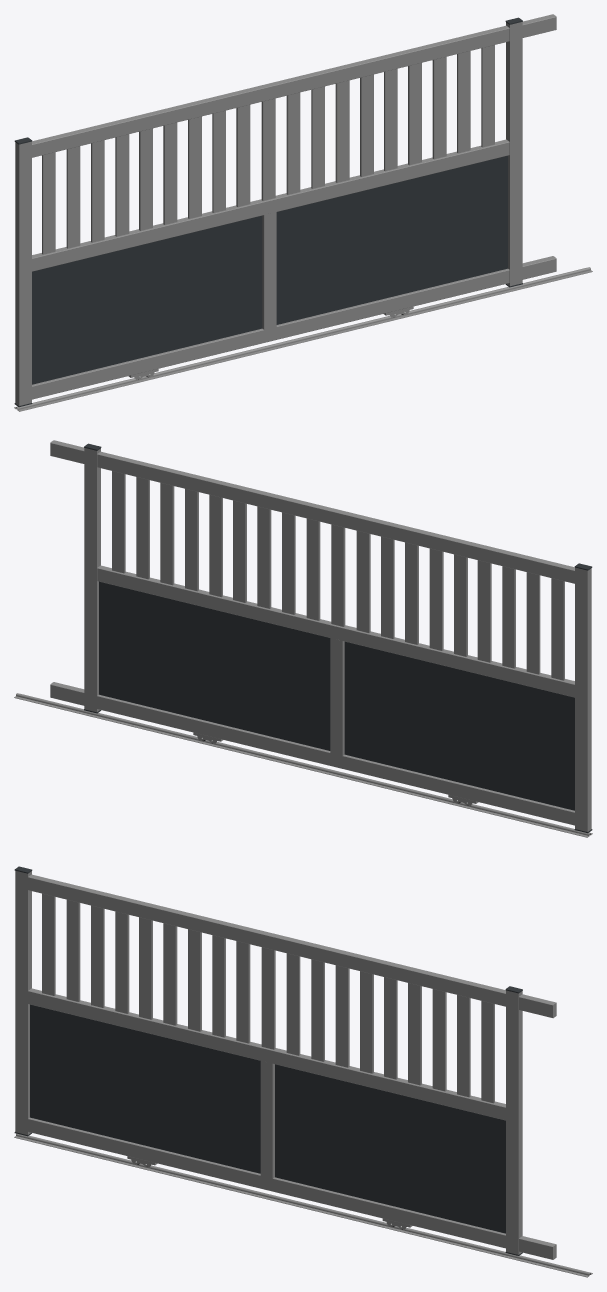
3 views of the same model, one above another, from view 1: azimuth 30°, elevation 25°; view 2: azimuth 150°, elevation 25°; view 3: azimuth 330°, elevation 25° (orthographic).
Visible parts, largest first — view 1: Chapa Alucobond028, Shape107412686, Shape107412685, travessa_central_ladoA, Pilar, Pilar001, Rail, Shape107412817, travessaDecor_Indiana003, travessaDecor_Indiana005, travessaDecor_Indiana007, travessaDecor_Indiana017 (+15 smaller); view 2: Chapa Alucobond028, Shape107412686, Shape107412685, travessa_central_ladoA, Pilar, Pilar001, Rail, Shape107412817, travessaDecor_Indiana003, travessaDecor_Indiana005, travessaDecor_Indiana007, travessaDecor_Indiana015 (+15 smaller); view 3: Chapa Alucobond028, Shape107412686, Shape107412685, travessa_central_ladoA, Pilar001, Pilar, Rail, Shape107412817, travessaDecor_Indiana018, travessaDecor_Indiana, travessaDecor_Indiana015, travessaDecor_Indiana005 (+15 smaller).
Part boxes in pixels (<box>): Chapa Alucobond028: <box>32,155,507,384</box>; Shape107412686: <box>32,14,556,157</box>; Shape107412685: <box>32,256,556,399</box>; travessa_central_ladoA: <box>32,139,509,271</box>; Pilar: <box>15,141,31,405</box>; Pilar001: <box>506,22,522,286</box>; Rail: <box>14,267,592,411</box>; Shape107412817: <box>262,212,276,329</box>; travessaDecor_Indiana003: <box>163,122,177,224</box>; travessaDecor_Indiana005: <box>115,134,129,236</box>; travessaDecor_Indiana007: <box>66,146,80,248</box>; travessaDecor_Indiana017: <box>286,92,300,194</box>; Chapa Alucobond028: <box>99,581,574,810</box>; Shape107412686: <box>50,440,574,583</box>; Shape107412685: <box>50,682,574,825</box>; travessa_central_ladoA: <box>97,565,574,697</box>; Pilar: <box>575,567,591,831</box>; Pilar001: <box>84,448,100,712</box>; Rail: <box>14,693,592,837</box>; Shape107412817: <box>330,638,344,755</box>; travessaDecor_Indiana003: <box>429,548,443,650</box>; travessaDecor_Indiana005: <box>477,560,491,662</box>; travessaDecor_Indiana007: <box>526,572,540,674</box>; travessaDecor_Indiana015: <box>257,506,271,608</box>; Chapa Alucobond028: <box>30,1004,505,1233</box>; Shape107412686: <box>28,874,556,1018</box>; Shape107412685: <box>28,1117,556,1259</box>; travessa_central_ladoA: <box>28,988,505,1120</box>; Pilar001: <box>506,990,522,1254</box>; Pilar: <box>15,870,31,1134</box>; Rail: <box>14,1133,592,1277</box>; Shape107412817: <box>260,1061,274,1178</box>; travessaDecor_Indiana018: <box>261,947,275,1049</box>; travessaDecor_Indiana: <box>236,941,250,1043</box>; travessaDecor_Indiana015: <box>335,965,349,1067</box>; travessaDecor_Indiana005: <box>115,911,129,1013</box>.
Bounding box in the file's own units: 3600 × 1606 × 60.02.
Materials: 8 (4 with a texture image).
